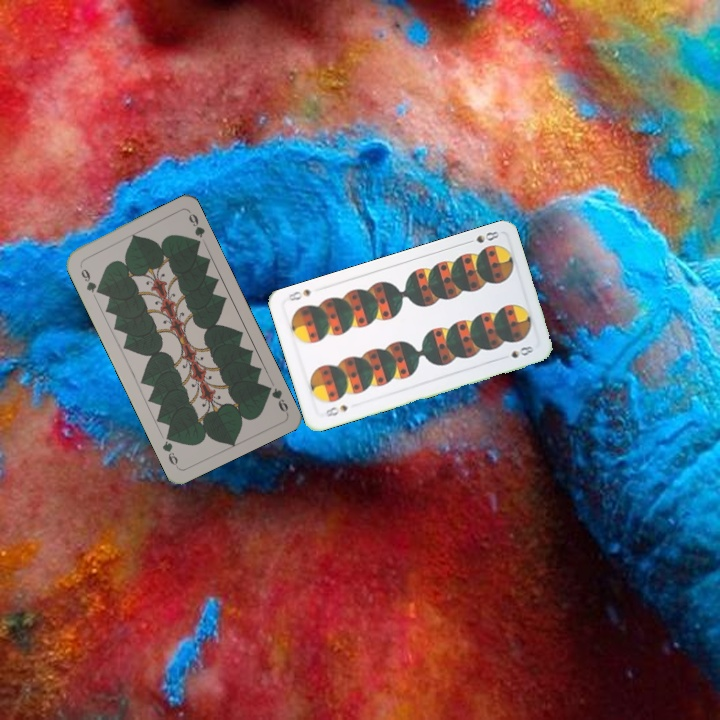G9: (261, 381, 291, 416), (76, 261, 103, 297)
S8: (462, 227, 502, 246), (320, 401, 350, 419)
